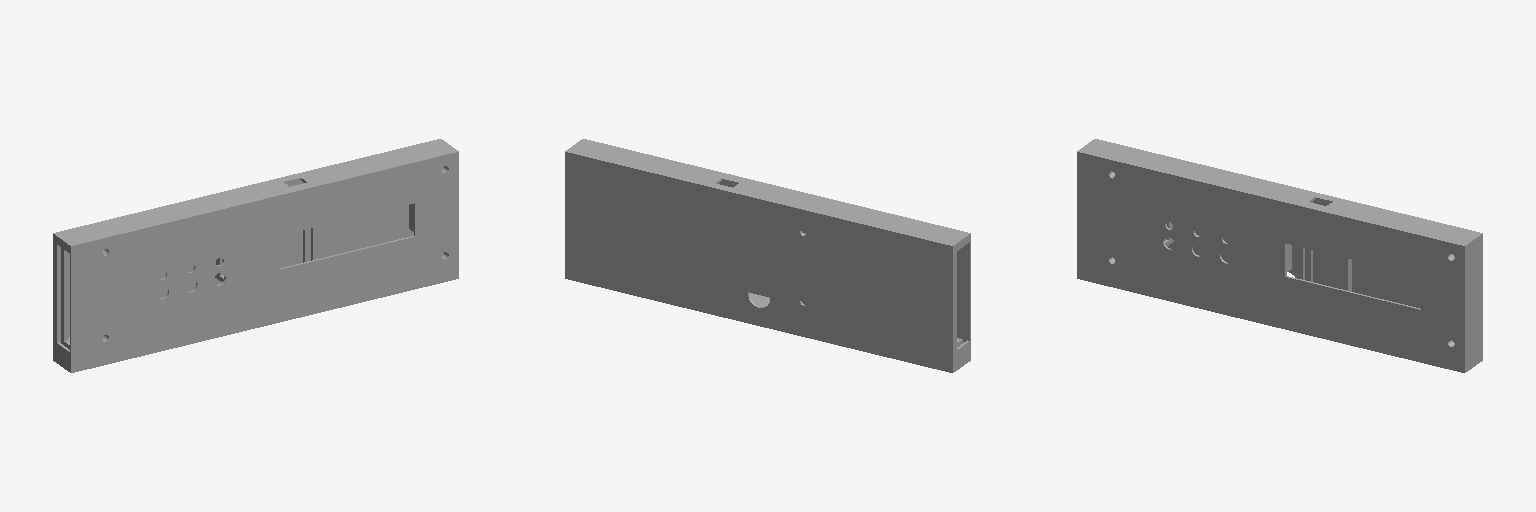
The model's file is SiGame_Judge.obj.
3 views of the same model, side by side, from view 1: azimuth 30°, elevation 25°; view 2: azimuth 150°, elevation 25°; view 3: azimuth 330°, elevation 25° (orthographic).
Size of the model in its own units: 0.1744 by 0.0546 by 0.014.